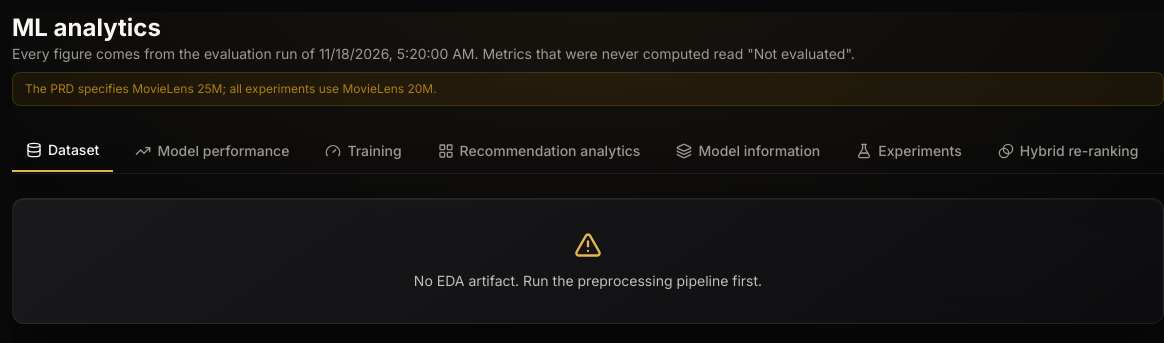
it: Analytics dashboard › says so when no experiments have been executed
Click the button "Experiments" at (909, 151), box [842, 130, 976, 172]
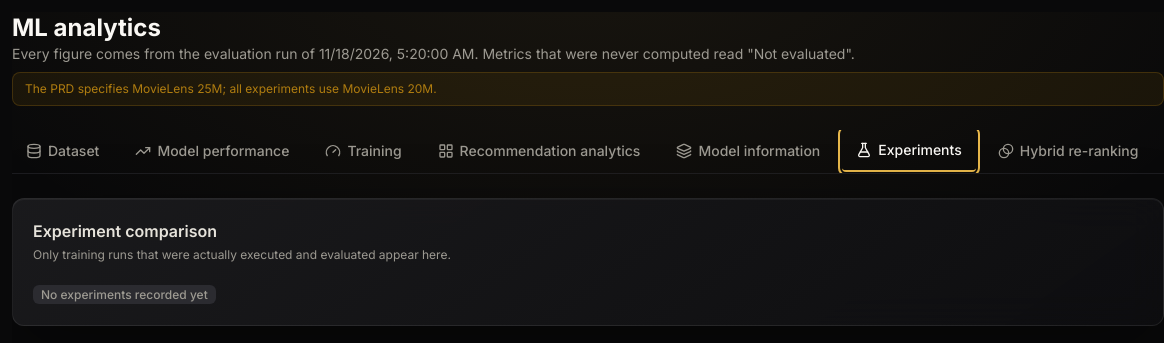
Expected: the text "No experiments recorded yet" is shown, [33, 284, 216, 304]
